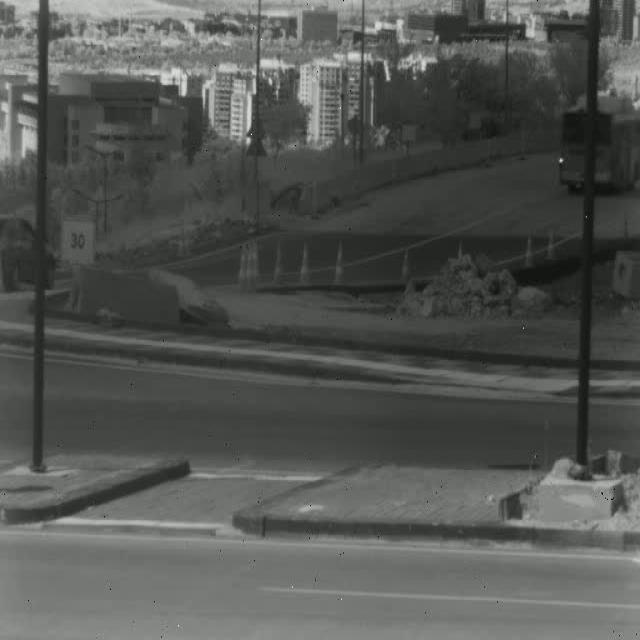Bus: (560, 96, 640, 192)
Car: (1, 212, 55, 288)
